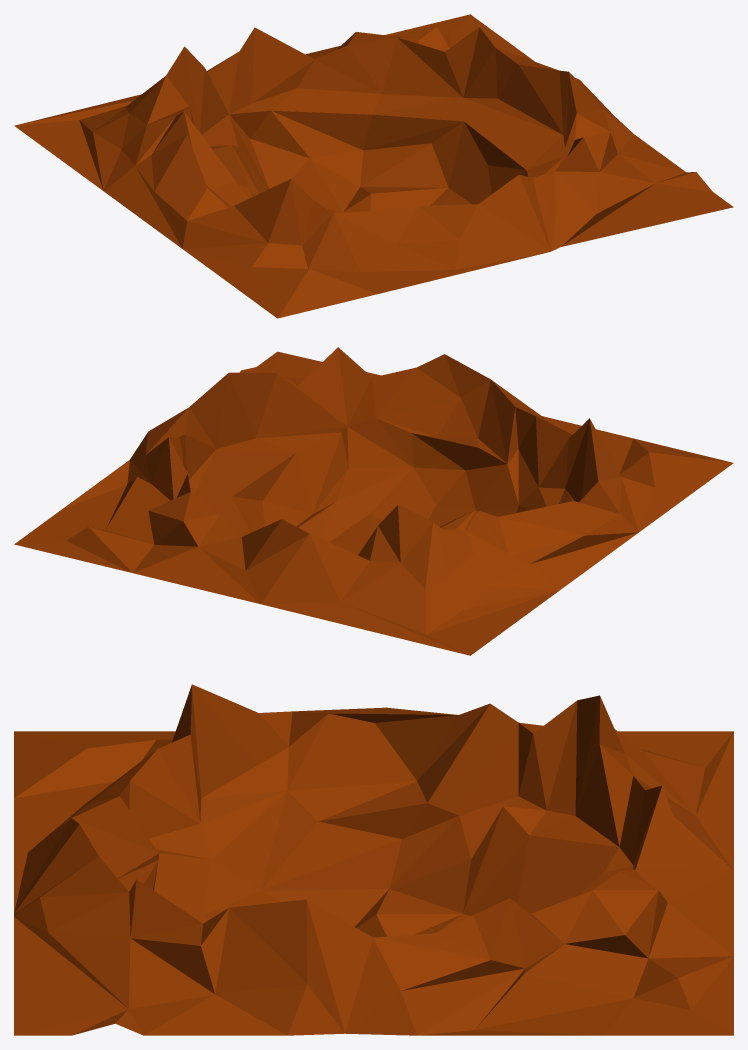
The model's file is Crater02.dae.
3 renders of one model, top to bottom at view 1: azimuth 30°, elevation 25°; view 2: azimuth 150°, elevation 25°; view 3: azimuth 270°, elevation 25°, orthographic. The views are drawn at different scales.
Parts seen in each view (by area): view 1: pPlane6; view 2: pPlane6; view 3: pPlane6.
Boxes of the visible parts, x1,y1,x2,y2 form: pPlane6: [14, 14, 733, 318]; pPlane6: [14, 347, 733, 655]; pPlane6: [14, 684, 733, 1035].
Bounding box in the file's own units: 1239 × 394 × 1234.
